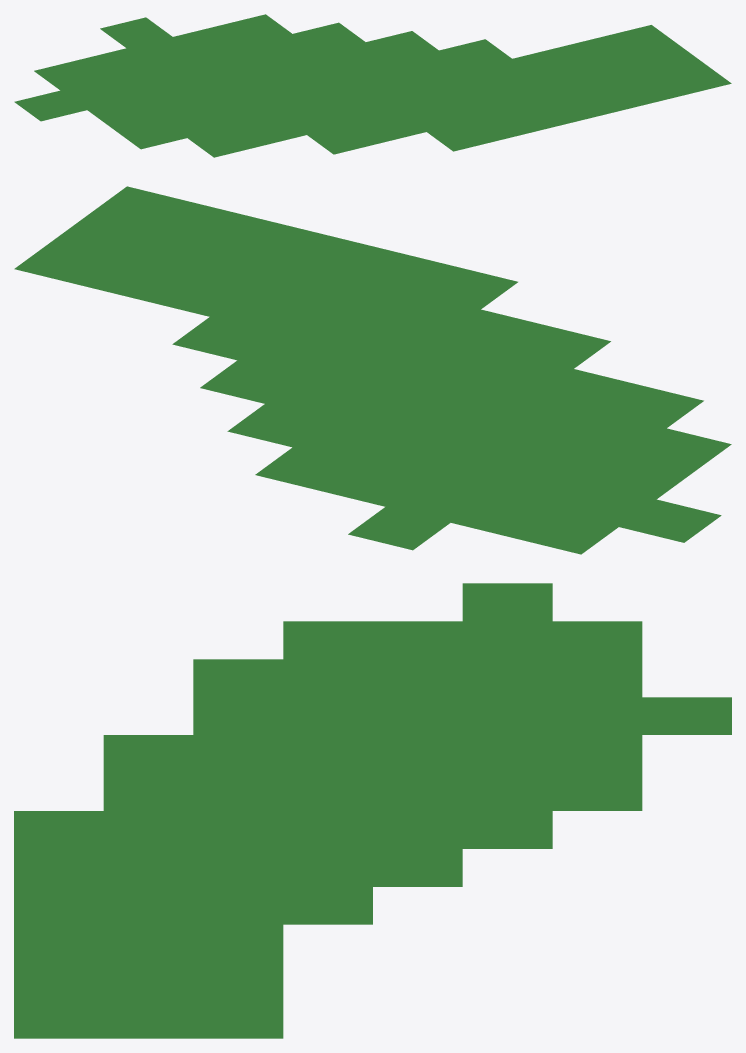
Rendered from Isl-crescent1-TreesArea.fbx.
3 views of the same model, one above another, from view 1: azimuth 30°, elevation 25°; view 2: azimuth 150°, elevation 25°; view 3: azimuth 270°, elevation 25° (orthographic). The views are drawn at different scales.
Parts seen in each view (by area): view 1: Isl-crescent1-TreesArea; view 2: Isl-crescent1-TreesArea; view 3: Isl-crescent1-TreesArea.
Part boxes in pixels (bbox=[...]): Isl-crescent1-TreesArea: bbox=[14, 14, 731, 157]; Isl-crescent1-TreesArea: bbox=[14, 186, 731, 554]; Isl-crescent1-TreesArea: bbox=[14, 583, 731, 1038].
Size of the model in its own units: 12 by 0 by 8.
